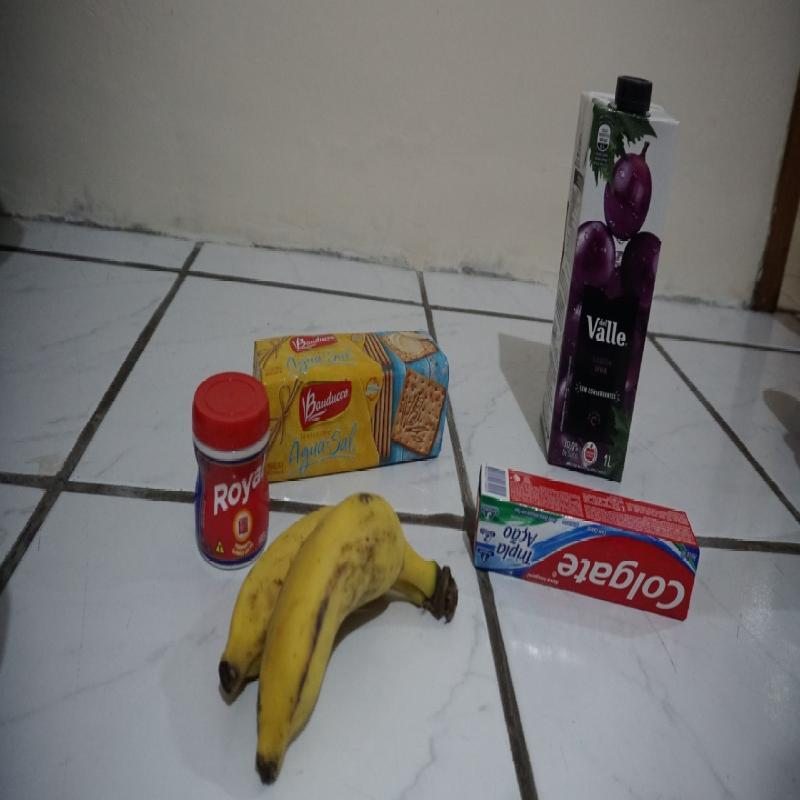Banana: (273, 481, 464, 780)
Cracker: (275, 331, 450, 476)
Toothpaste: (477, 460, 705, 626)
Yeast: (190, 372, 271, 558)
